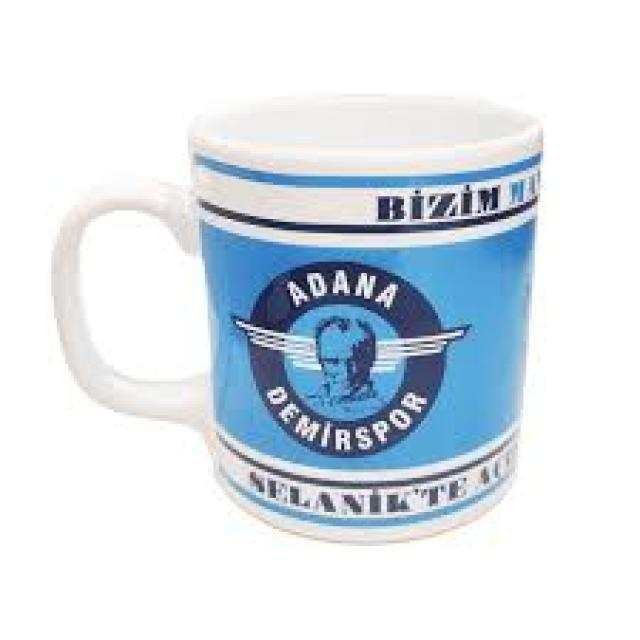taza: (51, 89, 544, 546)
